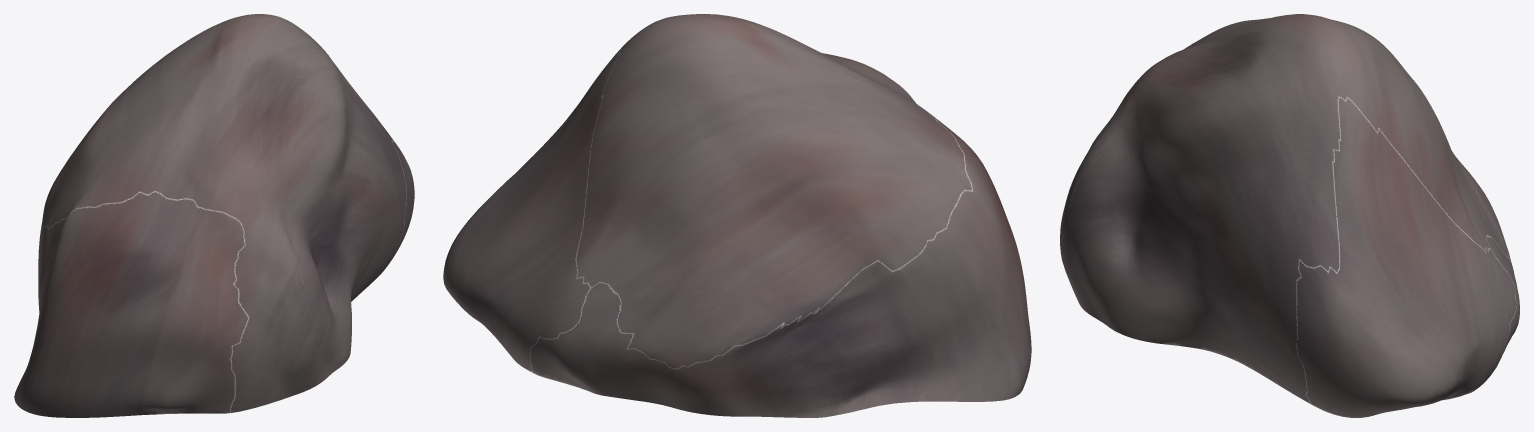
The model's file is skala.obj.
The picture shows the model from 3 angles, left to right: view 1: azimuth 30°, elevation 25°; view 2: azimuth 150°, elevation 25°; view 3: azimuth 270°, elevation 25°; orthographic projection. The views are drawn at different scales.
Visible parts, largest first — view 1: Sphere_Sphere_Sphere; view 2: Sphere_Sphere_Sphere; view 3: Sphere_Sphere_Sphere.
Boxes of the visible parts, x1,y1,x2,y2 form: Sphere_Sphere_Sphere: [14, 14, 414, 417]; Sphere_Sphere_Sphere: [443, 14, 1031, 417]; Sphere_Sphere_Sphere: [1060, 14, 1519, 417].
Size of the model in its own units: 5.83 by 3.74 by 4.67.
1 material, 1 textured.
